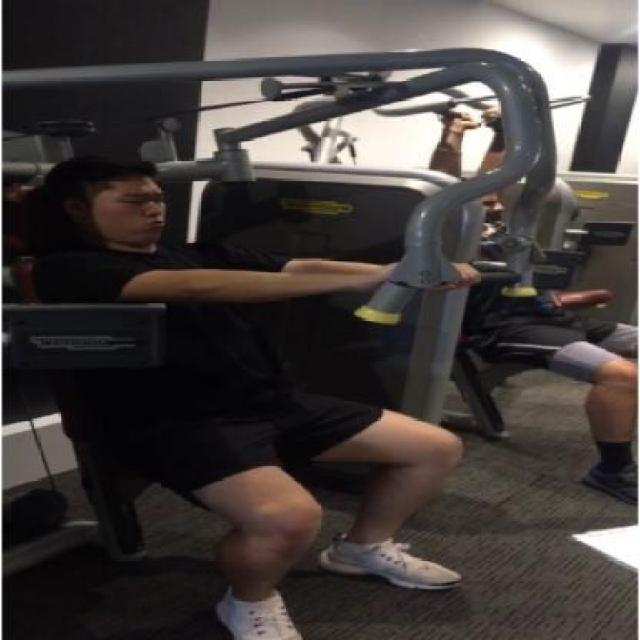Chest Press machine: (4, 26, 590, 640)
